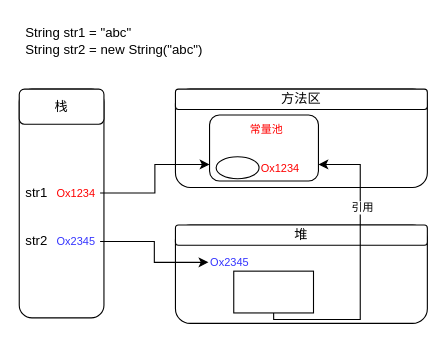
Some shapes in this 447 by 348 pixel diagram are drawn without their labels. Each missing label, with the centre of its shape:
"abc" goes at point 237,167.
"String 对象 Ox1234" goes at point 273,291.
